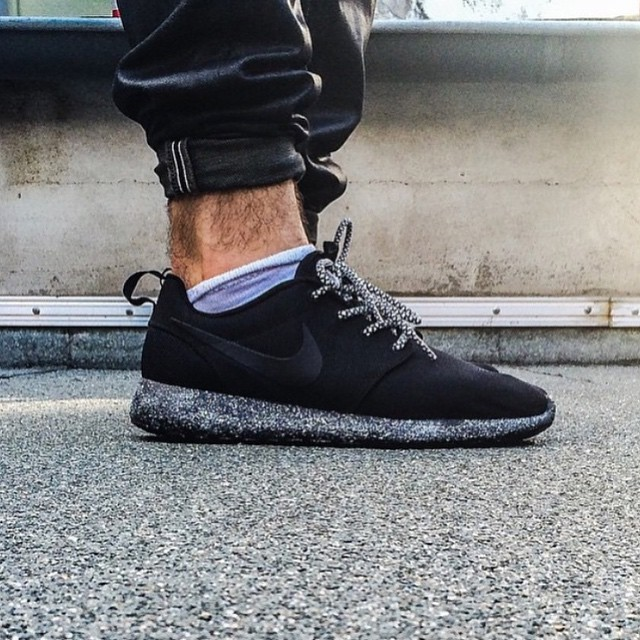sneaker: (96, 201, 574, 463)
